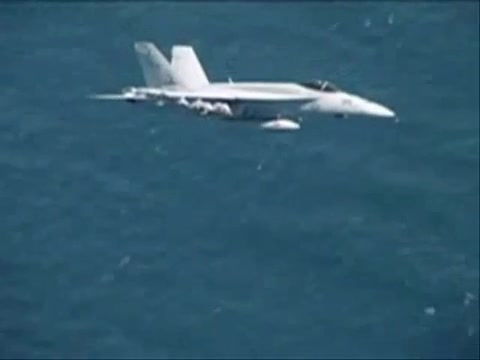aeroplane: (90, 39, 400, 134)
